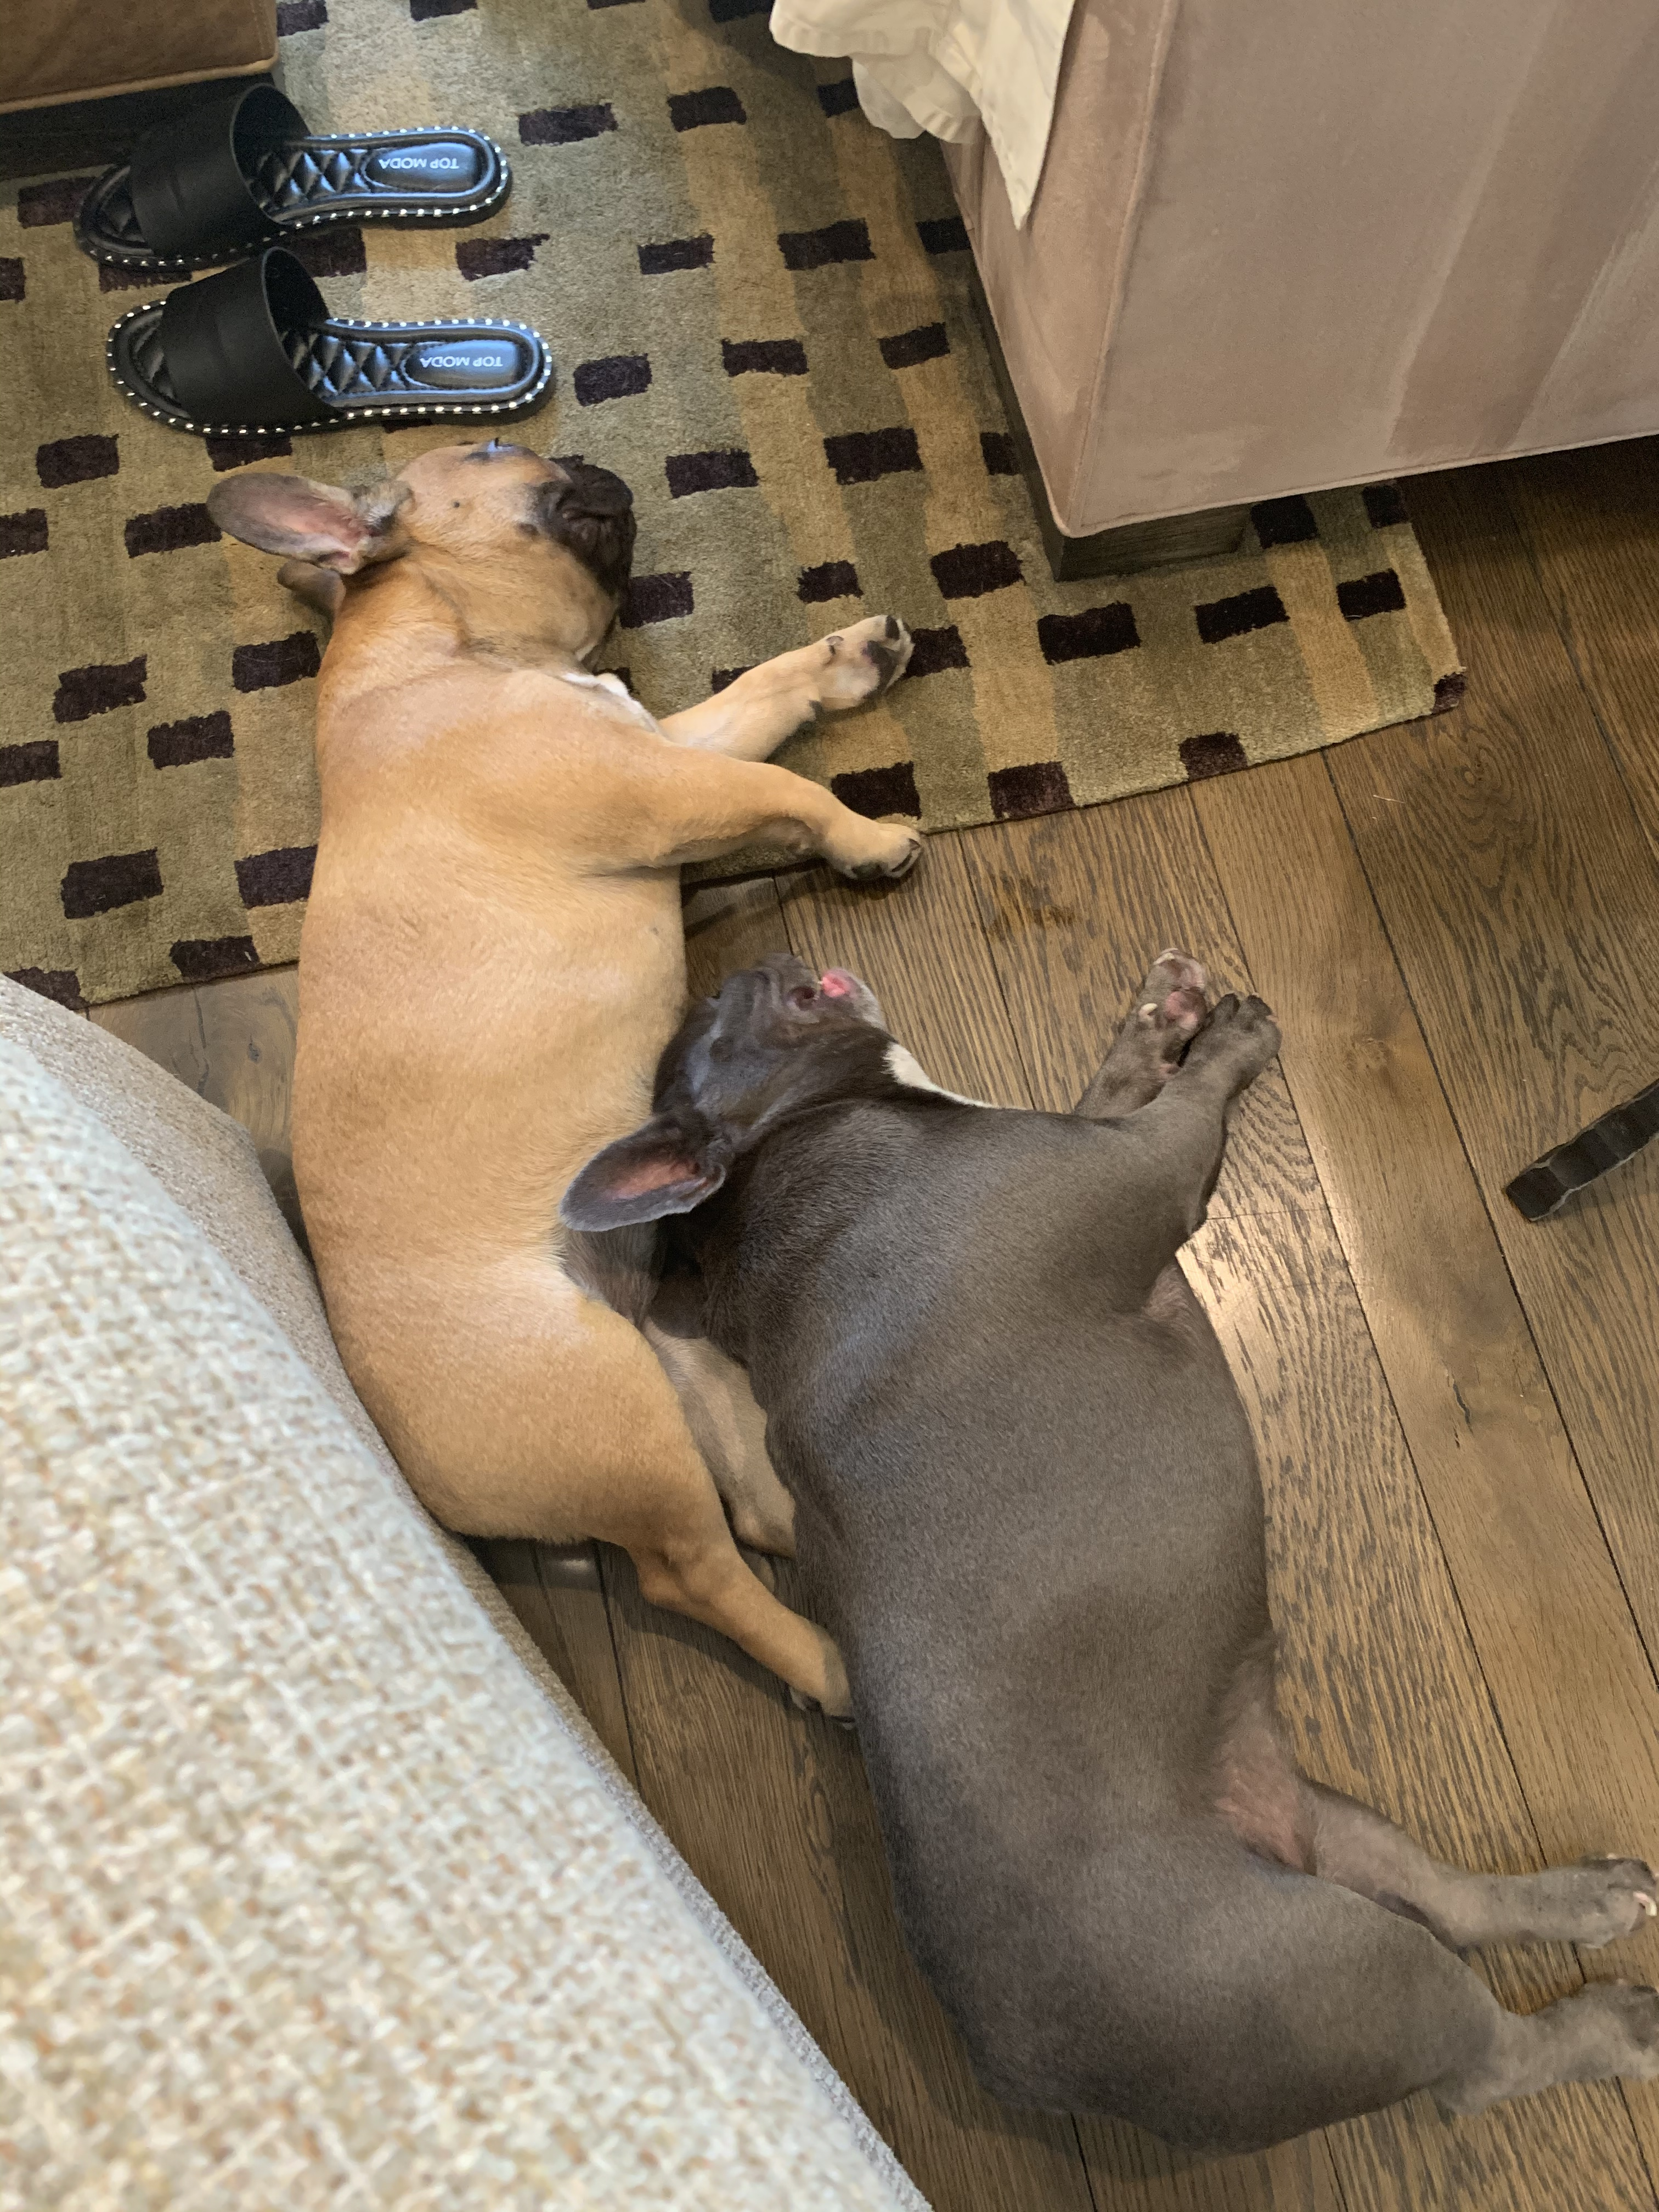lucy: (554, 939, 1659, 2163)
